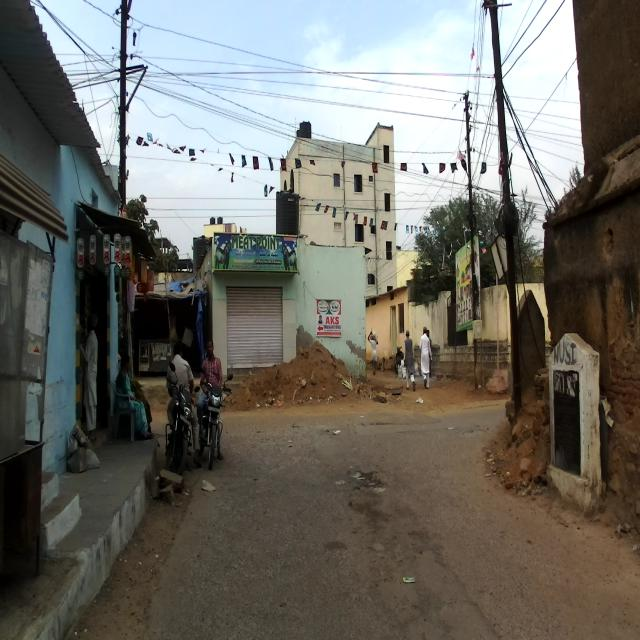barrier ahead at: (545, 328, 605, 508)
electric pole ahead at: (456, 84, 490, 390)
motorcycle ahead at: (203, 378, 231, 461)
